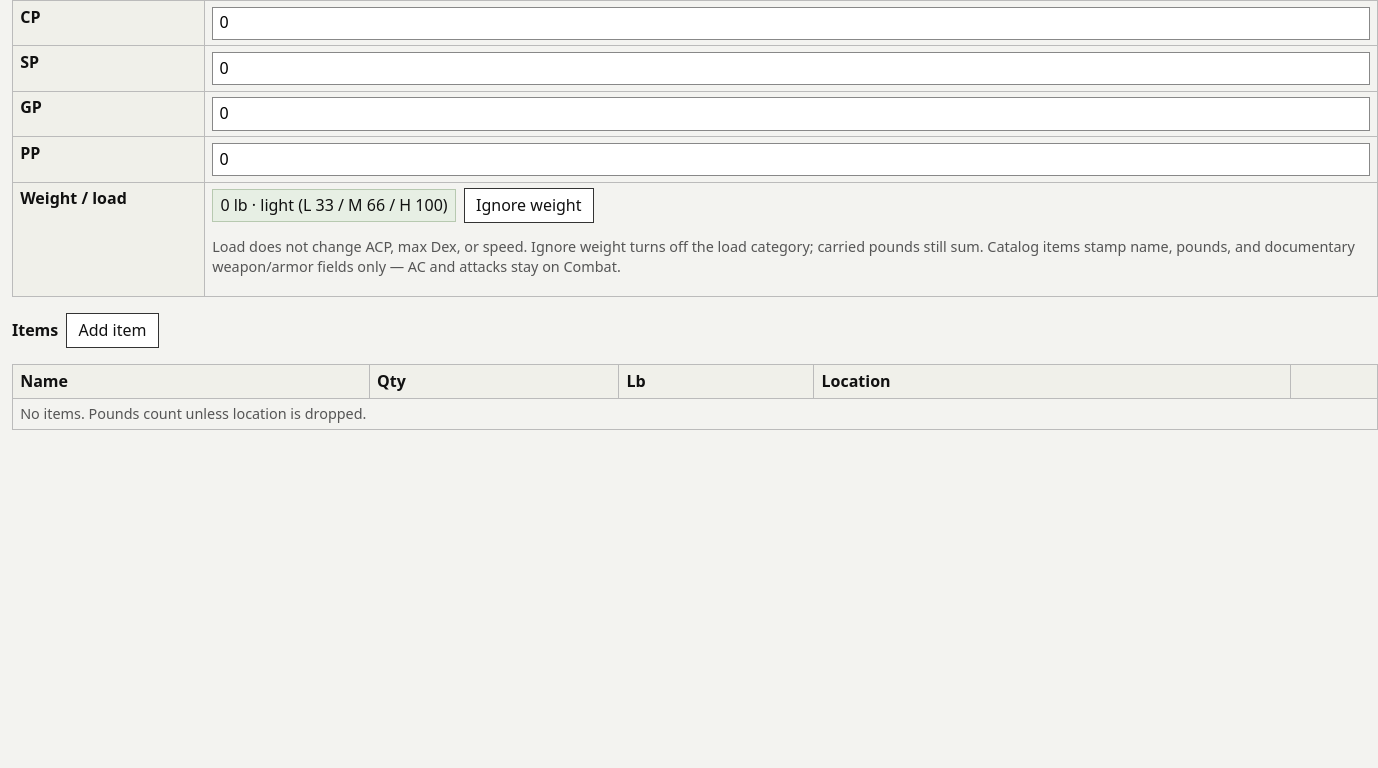
Test case: InventoryPanel weapon properties › stamps a single brace tag and allows adding a second
This screenshot has width=1378, height=768.
Click the button "Add item" at (112,330), box [66, 313, 159, 348]
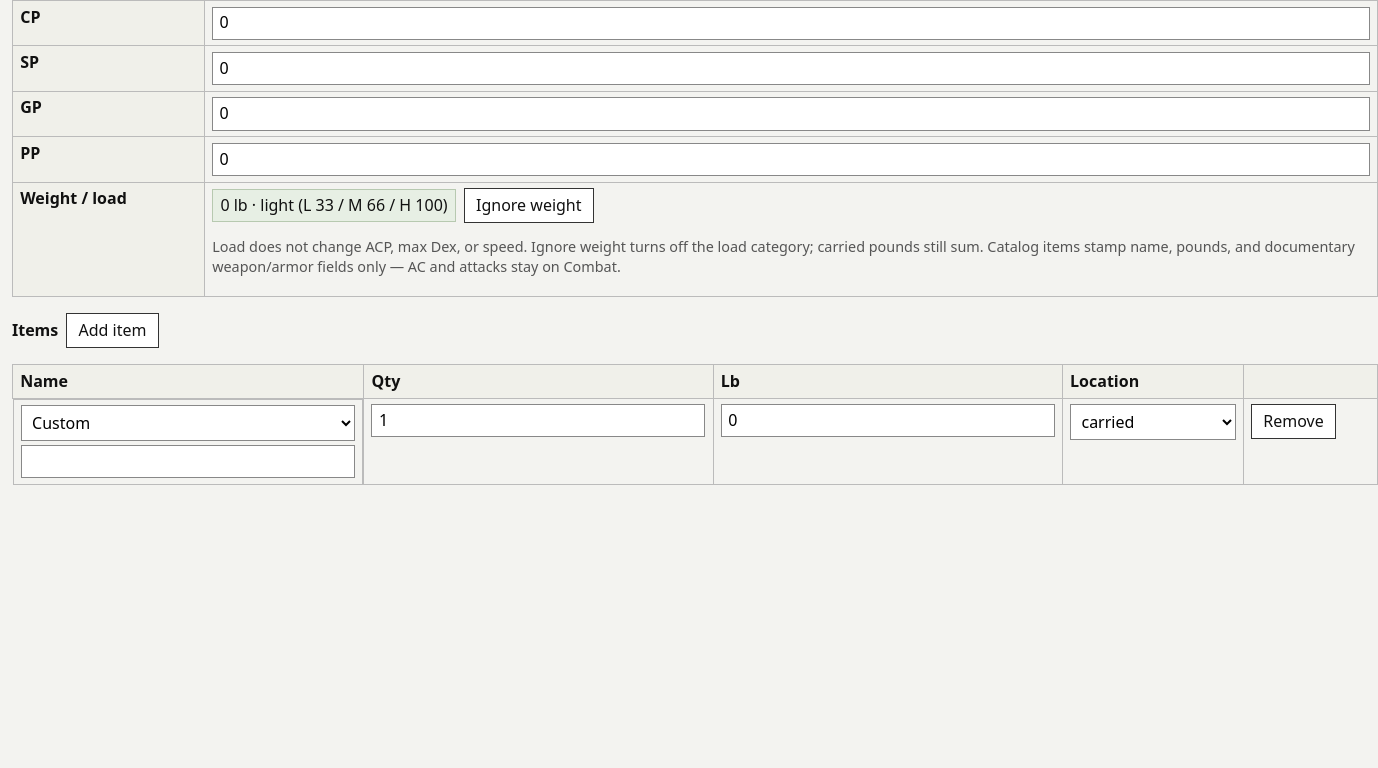
Select "Spear" in the dropdown named "CRB item" at (188,423), box [21, 405, 355, 441]
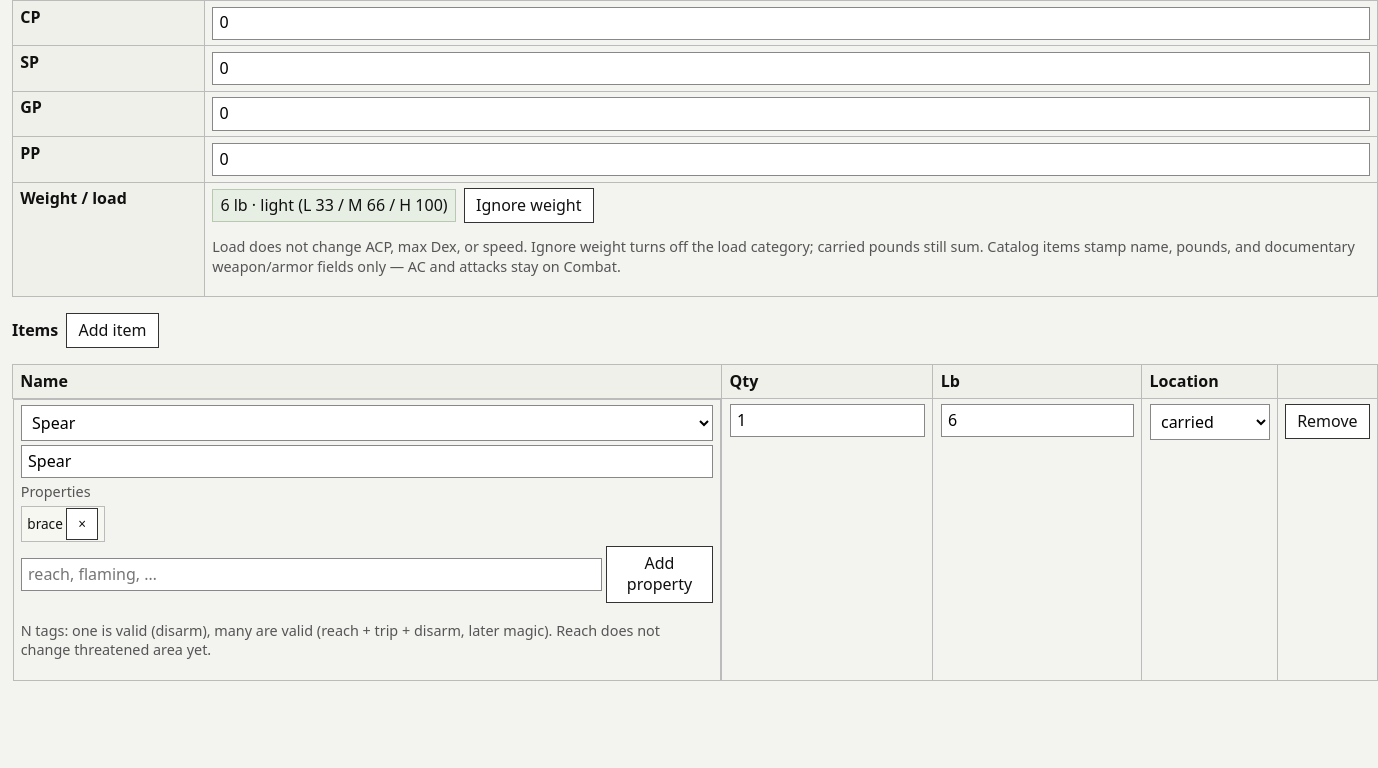
Now the text "brace" is shown, box [27, 515, 63, 533]
Type "trip" into the field named "Add property" at (311,574), box [21, 558, 602, 591]
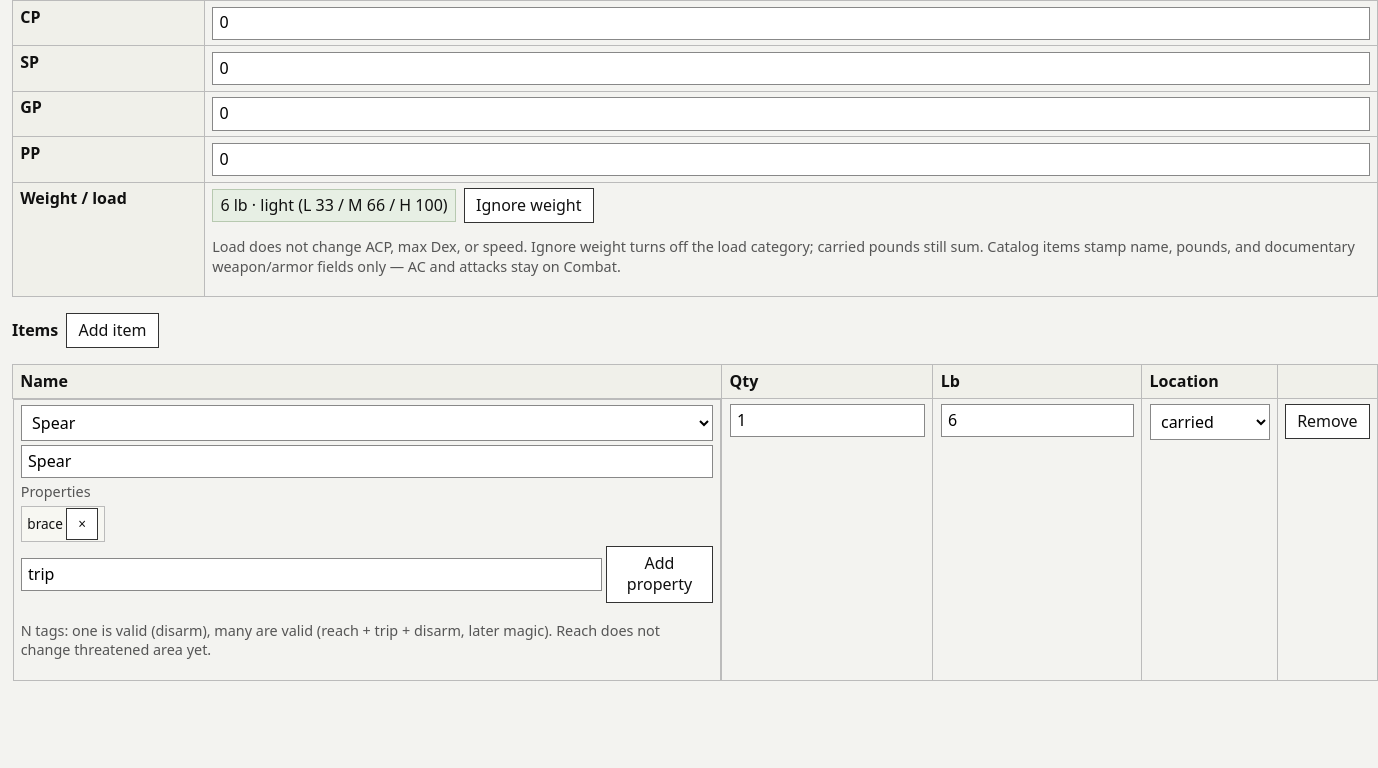
Click the button "Add property" at (659,574), box [606, 546, 713, 603]
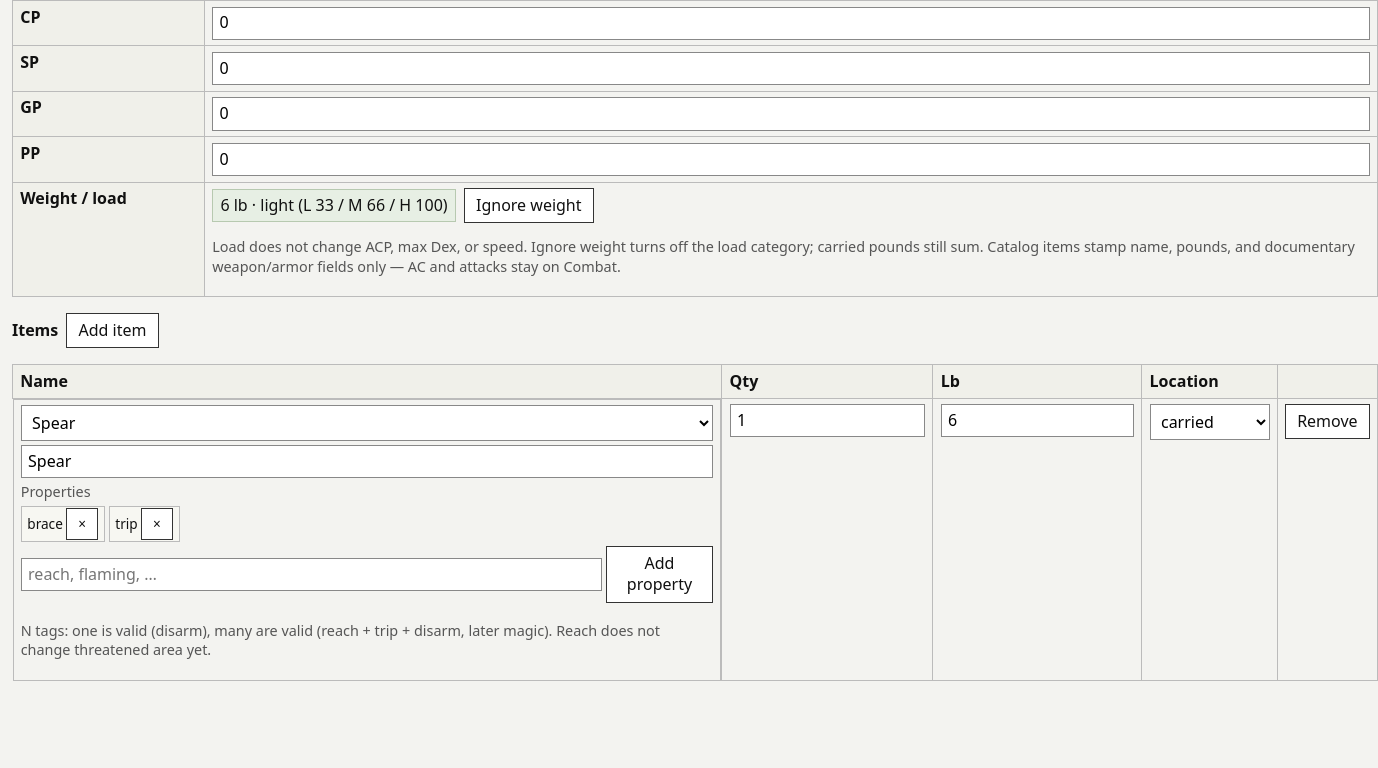
Now the text "brace" is shown, box [27, 515, 63, 533]
Now the text "trip" is shown, box [115, 515, 138, 533]
